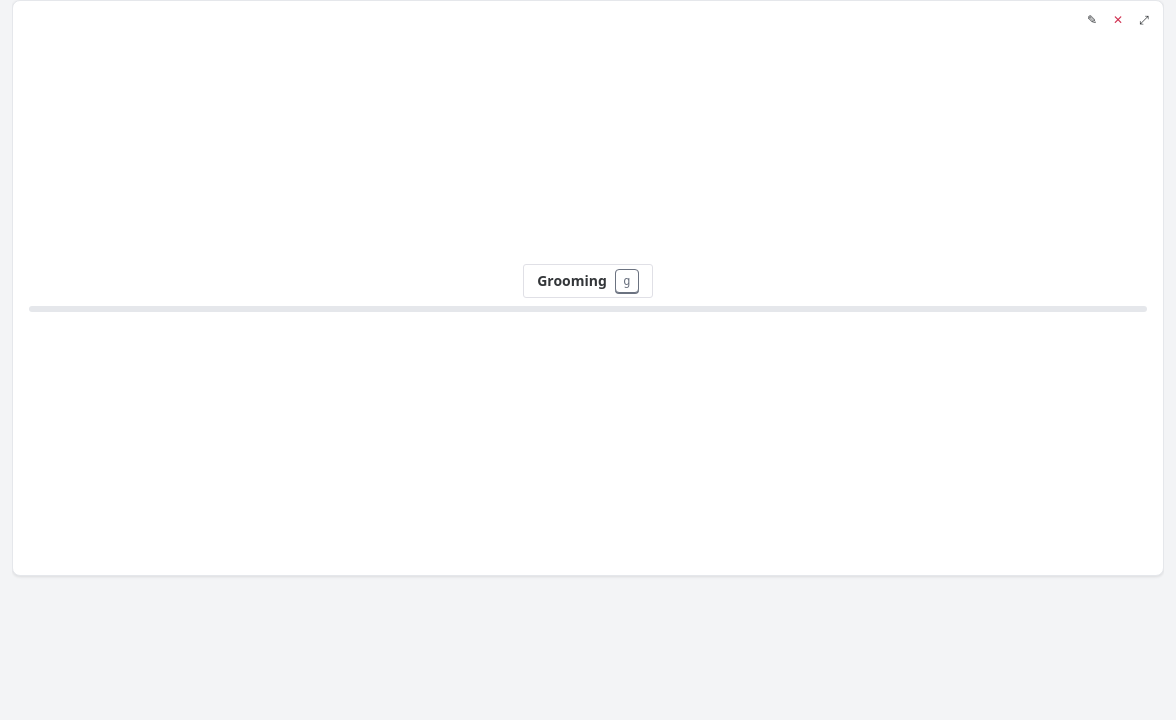
SubjectCard › expands the card when the edit button is clicked while collapsed
The width and height of the screenshot is (1176, 720).
What coordinates should you click on to do the following:
click the button with class "subject-card__edit"
I would click on:
 (1092, 20)
Its box is top-left (1081, 9), bottom-right (1103, 31).
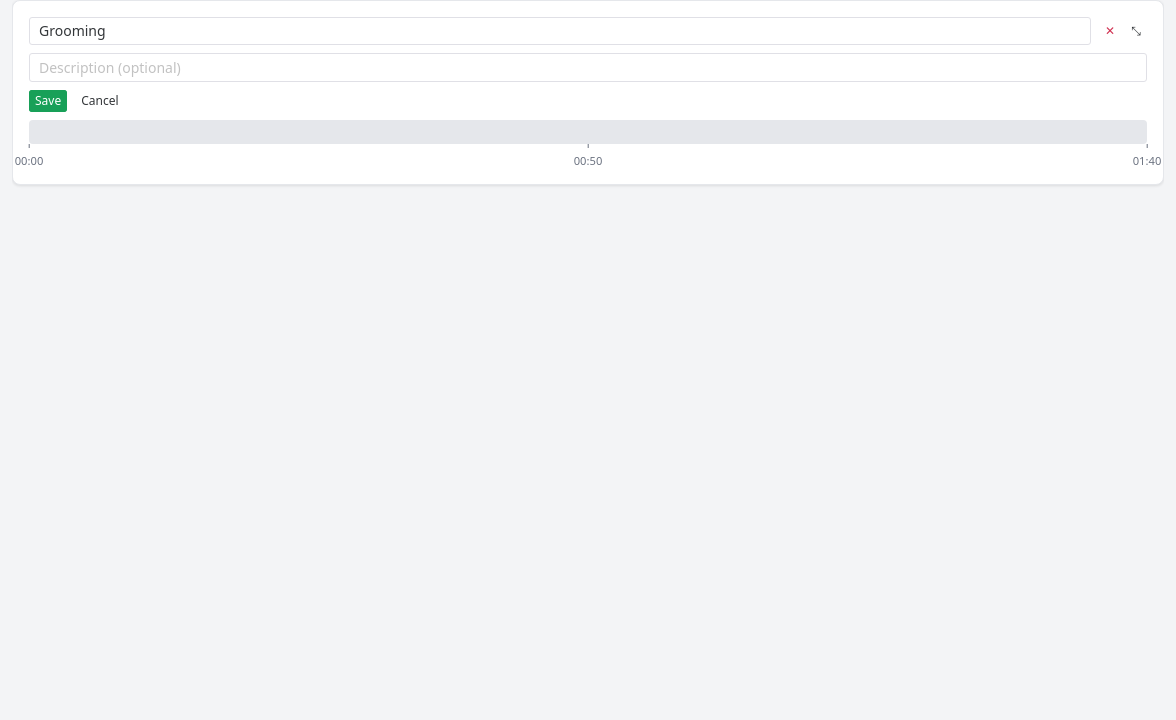
Now the element with class "subject-card__edit-label" is shown, box top-left (29, 17), bottom-right (1091, 45)
